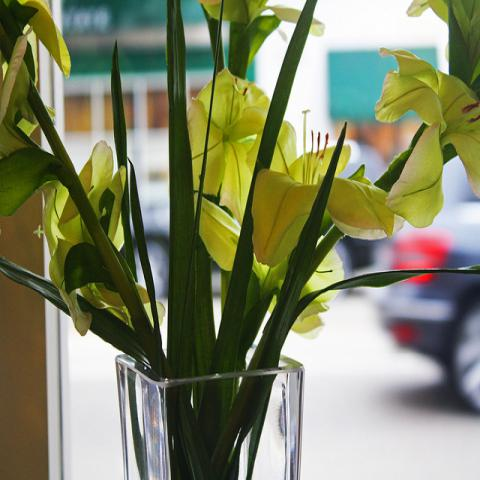car: (142, 139, 390, 302), (379, 204, 479, 412)
